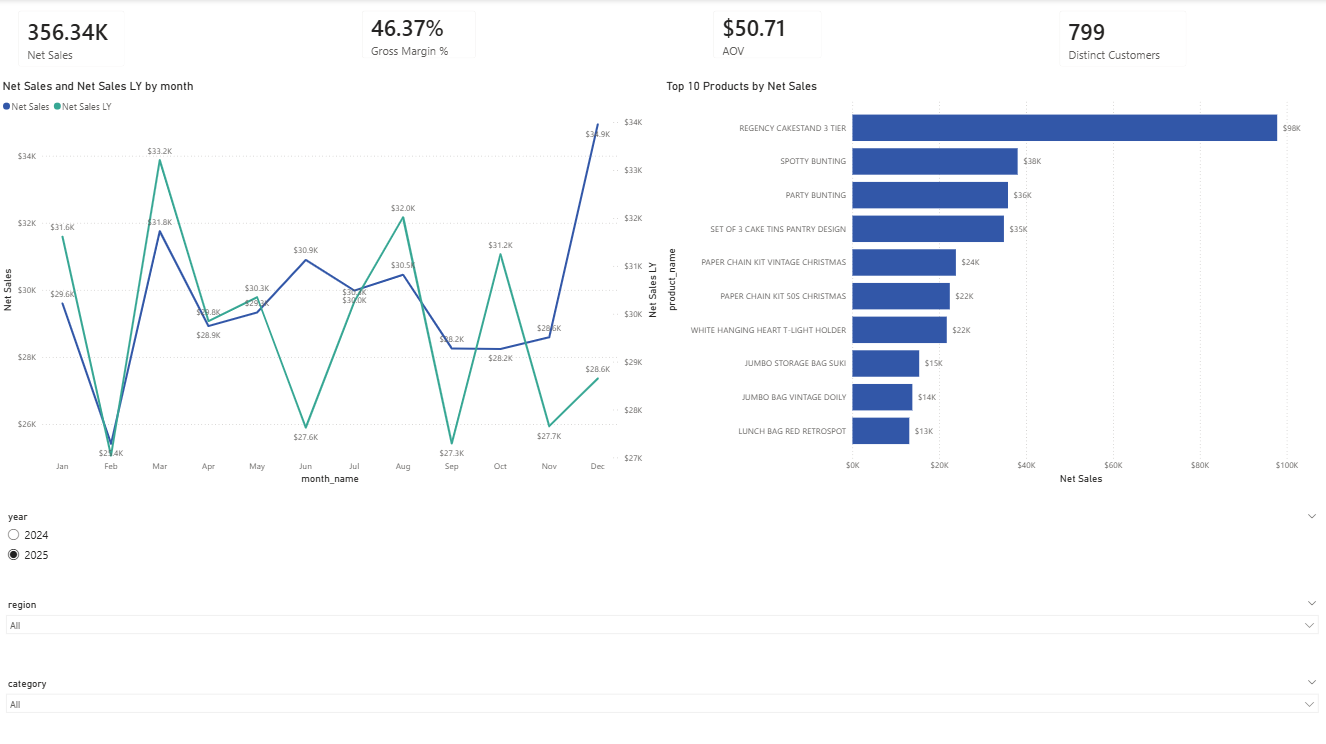

Layout of this report page (visuals, bound fields, positions):
{"tool":"powerbi","page":{"name":"Overview","canvas":[1920,1080],"ordinal":0},"visuals":[{"type":"cardVisual","fields":{"Data":["fact_sales.Net Sales"]},"box":[10.9,0,188.2,115.8],"z":0},{"type":"cardVisual","fields":{"Data":["fact_sales.Gross Margin %"]},"box":[508.5,0,199.1,103.2],"z":1000},{"type":"cardVisual","fields":{"Data":["fact_sales.AOV"]},"box":[1017,0,191.8,103.2],"z":2000},{"type":"cardVisual","fields":{"Data":["fact_sales.Distinct Customers"]},"box":[1518.3,0,219,115.8],"z":3000},{"type":"lineChart","title":"Net Sales and Net Sales LY by month","fields":{"Y":["fact_sales.Net Sales"],"Y2":["fact_sales.Net Sales LY"],"Category":["dim_date.month_name"]},"box":[0,115.8,959.1,591.8],"z":4000},{"type":"clusteredBarChart","title":"Top 10 Products by Net Sales","fields":{"Category":["dim_product.product_name"],"Y":["fact_sales.Net Sales"]},"box":[960.9,115.8,959.1,591.8],"z":5000},{"type":"slicer","fields":{"Values":["dim_date.year"]},"box":[0,736.5,1920.1,126.7],"z":6000},{"type":"slicer","fields":{"Values":["dim_country.region"]},"box":[0,863.2,1920.1,114],"z":7000},{"type":"slicer","fields":{"Values":["dim_product.category"]},"box":[0,977.2,1920.1,103.2],"z":8000}]}

Visuals, with their boxes in screenshot pixels (x1, y1, x2, y2), scaled from the page's 1920x1080 canvas onto the 1326x744 screenshot:
cardVisual - fact_sales.Net Sales: (8,0,138,80)
cardVisual - fact_sales.Gross Margin %: (351,0,489,71)
cardVisual - fact_sales.AOV: (702,0,835,71)
cardVisual - fact_sales.Distinct Customers: (1049,0,1200,80)
"Net Sales and Net Sales LY by month" lineChart: (0,80,662,487)
"Top 10 Products by Net Sales" clusteredBarChart: (664,80,1325,487)
slicer - dim_date.year: (0,507,1325,595)
slicer - dim_country.region: (0,595,1325,673)
slicer - dim_product.category: (0,673,1325,743)
